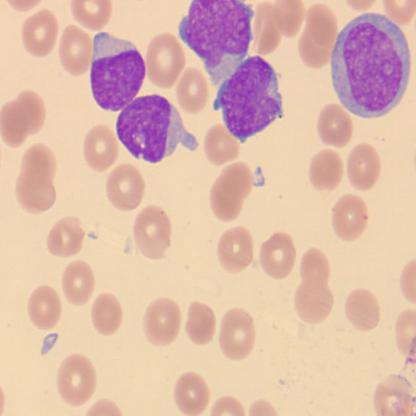Promyelocyte: (330, 10, 412, 121), (214, 52, 286, 142), (182, 1, 255, 86), (114, 96, 192, 171), (88, 32, 142, 116)
